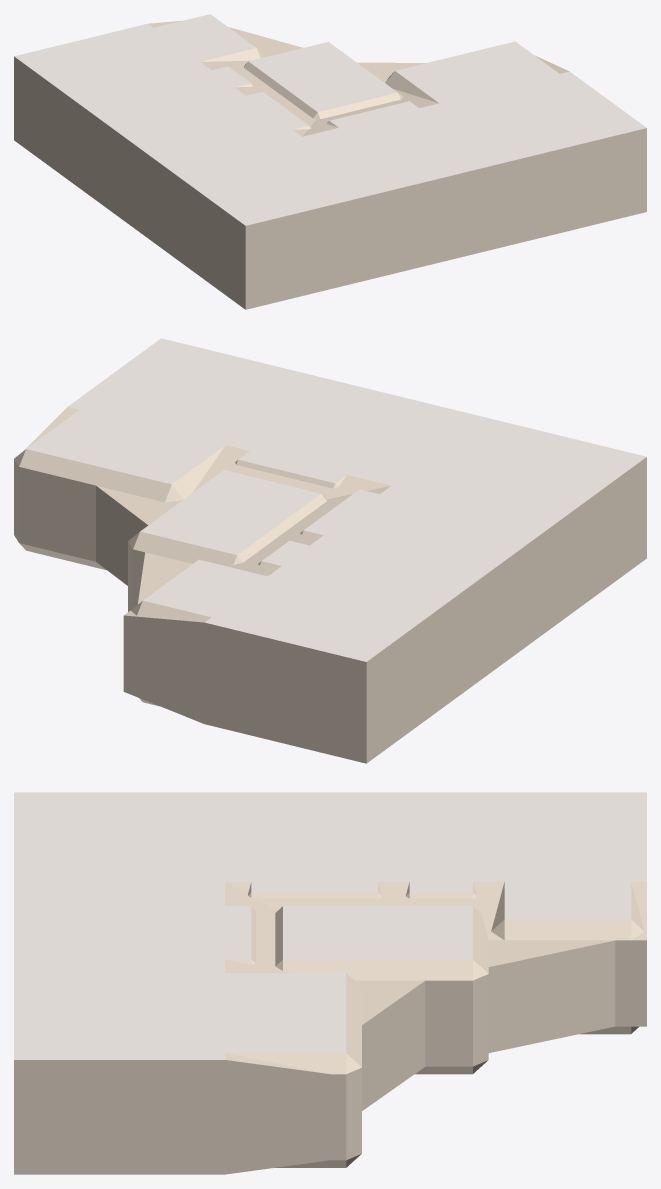
3 renders of one model, top to bottom at view 1: azimuth 30°, elevation 25°; view 2: azimuth 150°, elevation 25°; view 3: azimuth 270°, elevation 25°, orthographic. The views are drawn at different scales.
Visible parts, largest first — view 1: object1.006; view 2: object1.006; view 3: object1.006.
Boxes of the visible parts, x1,y1,x2,y2 form: object1.006: (14,14,646,309); object1.006: (14,338,646,763); object1.006: (14,792,646,1174).
Bounding box in the file's own units: 1 × 0.2 × 1.
